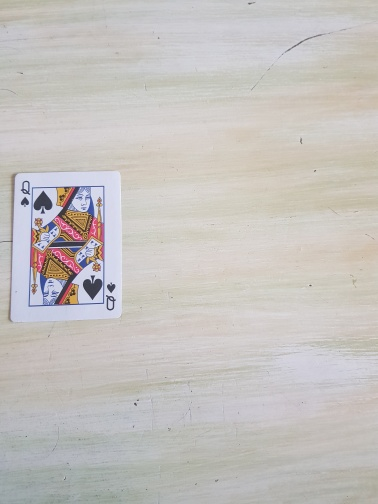queen: (10, 172, 123, 322)
